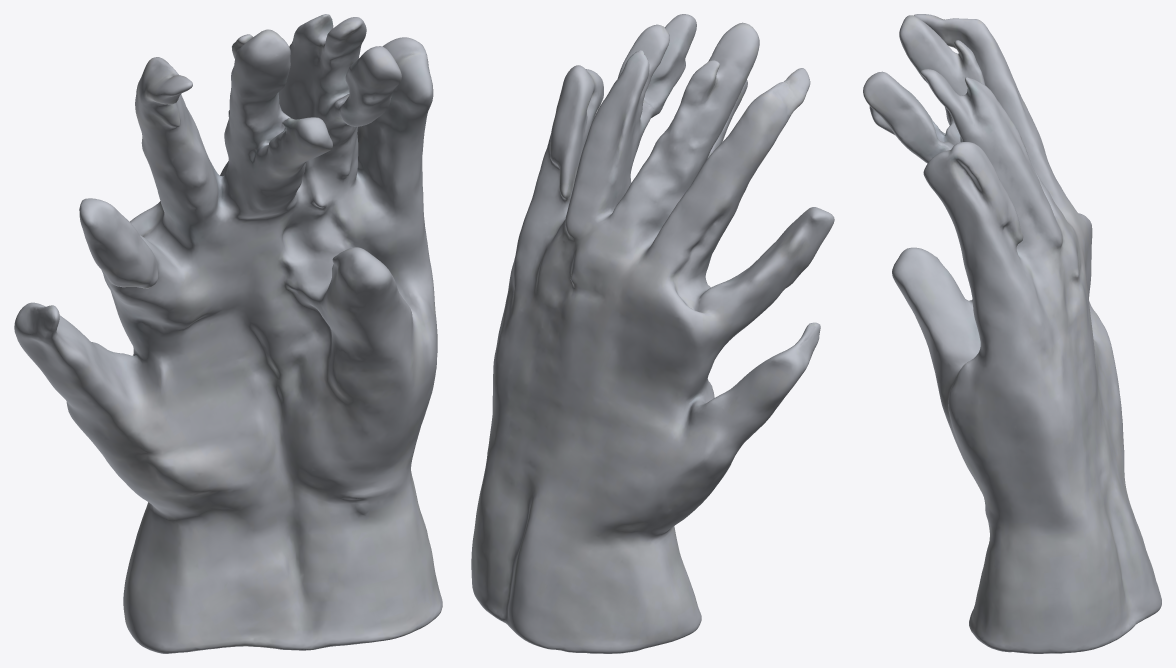
Rendered from fe4f0d06b650_hands_sculpture__3d.fbx.
3 renders of one model, left to right at view 1: azimuth 30°, elevation 25°; view 2: azimuth 150°, elevation 25°; view 3: azimuth 270°, elevation 25°, orthographic. The views are drawn at different scales.
Visible parts, largest first — view 1: high_poly; view 2: high_poly; view 3: high_poly.
Boxes of the visible parts, x1,y1,x2,y2 form: high_poly: (14,14,442,653); high_poly: (471,14,834,653); high_poly: (863,14,1161,653).
Bounding box in the file's own units: 61.8 × 100 × 49.19.
